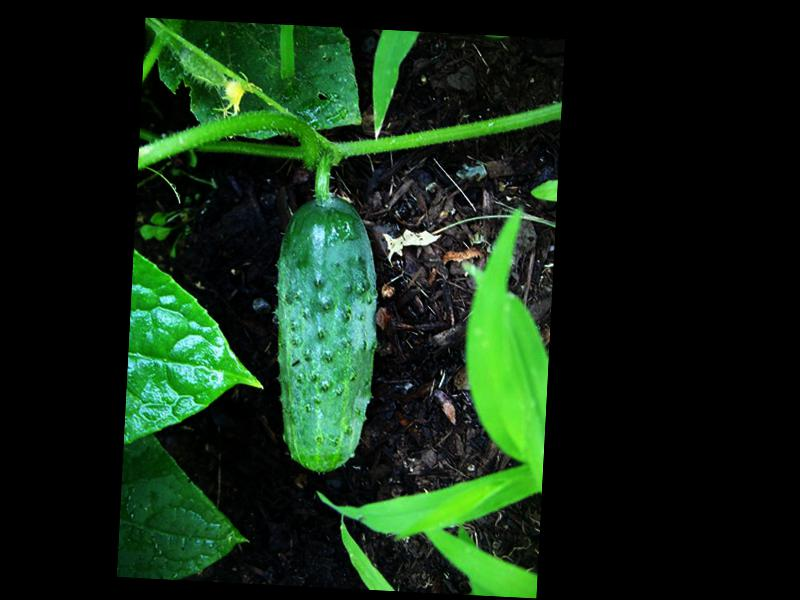Cucumber: (267, 194, 384, 478)
